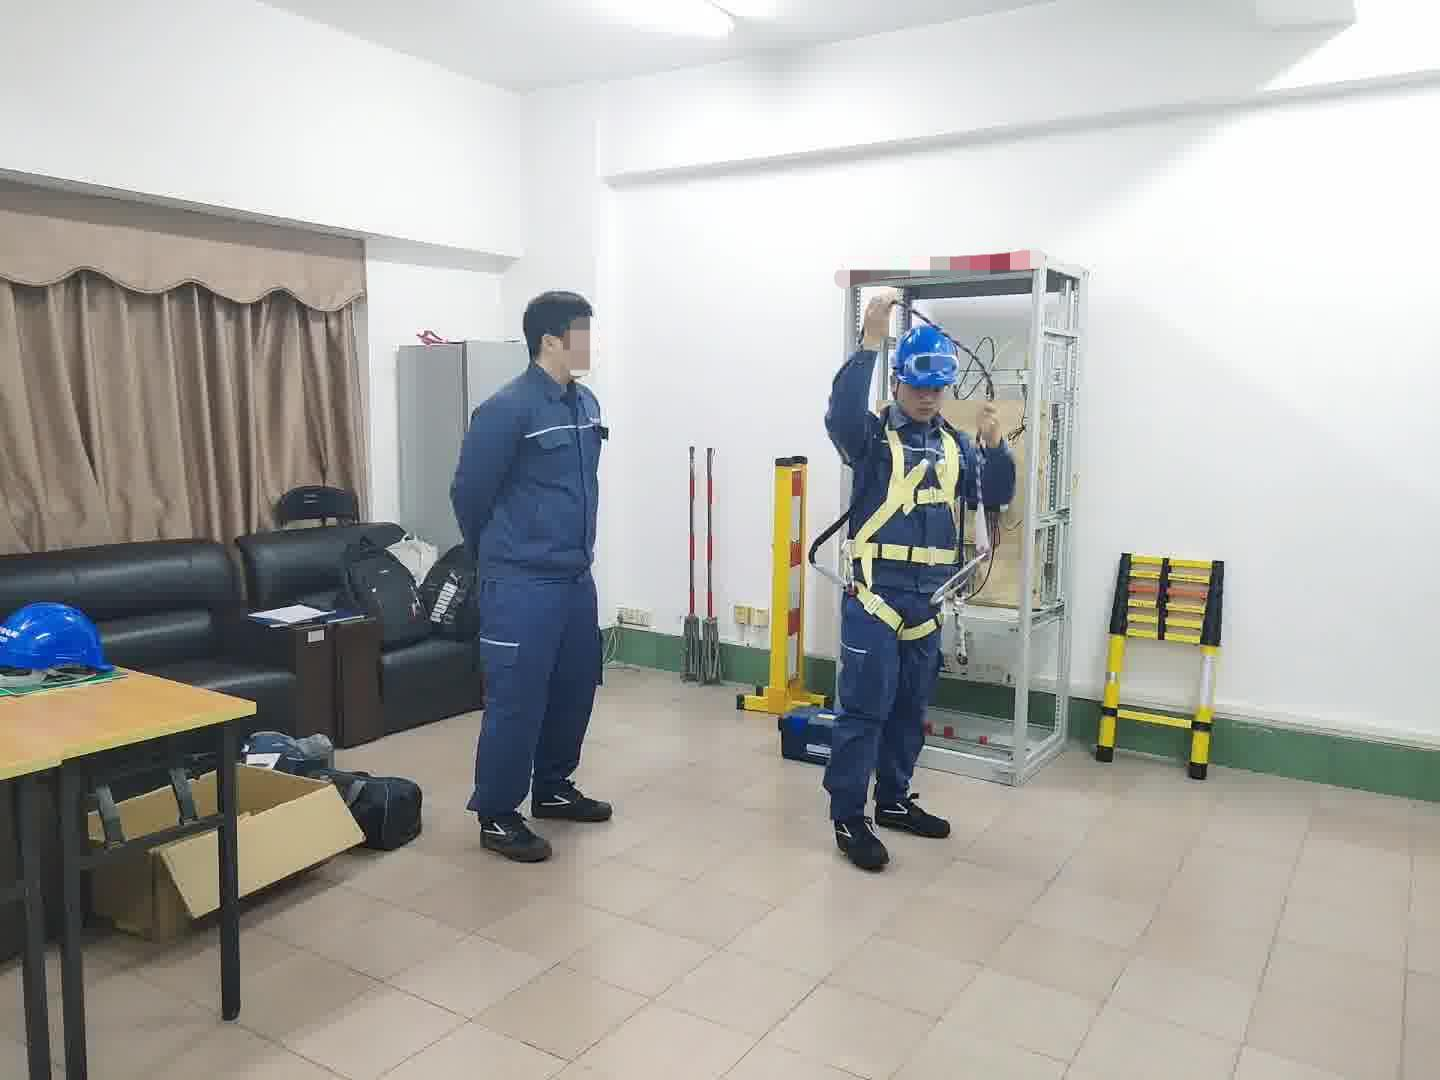halt: (893, 327, 963, 417)
noear: (541, 332, 573, 371)
unhalt: (523, 289, 605, 383)
